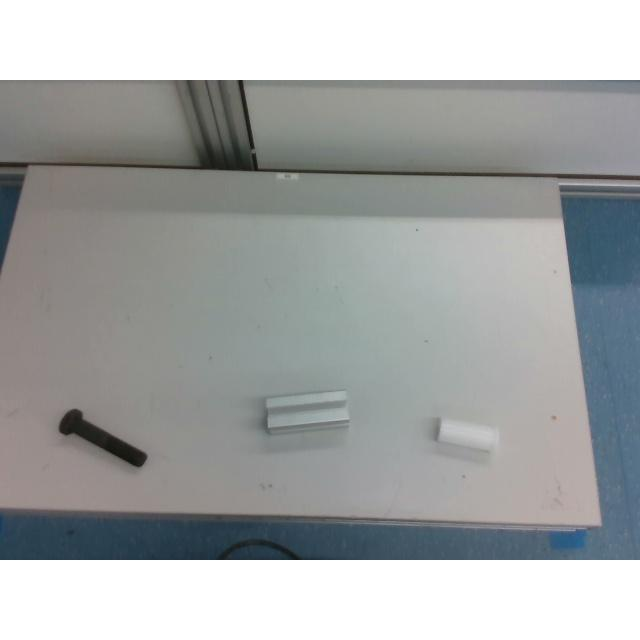M20_100: (59, 409, 147, 466)
S40_40_G: (265, 389, 349, 433)
Spacer: (437, 418, 499, 452)
